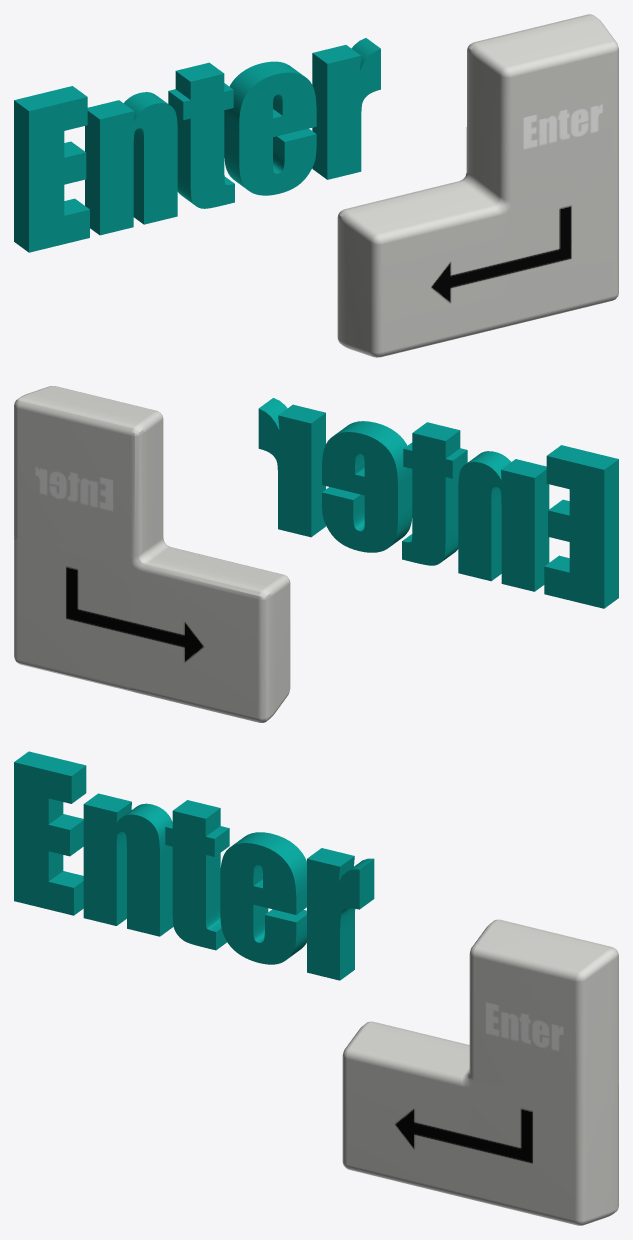
The model's file is HSBC Entorno_10_CAPAS_BOTONES Enter Desarrollo.fbx.
3 renders of one model, top to bottom at view 1: azimuth 30°, elevation 25°; view 2: azimuth 150°, elevation 25°; view 3: azimuth 330°, elevation 25°, orthographic.
Parts seen in each view (by area): view 1: enter, letras_enter; view 2: enter, letras_enter; view 3: enter, letras_enter.
Boxes of the visible parts, x1,y1,x2,y2 form: enter: (337, 14, 618, 357); letras_enter: (14, 38, 380, 252); enter: (14, 386, 290, 722); letras_enter: (258, 398, 618, 608); enter: (342, 919, 618, 1225); letras_enter: (14, 751, 374, 980).
Size of the model in its own units: 111 by 60.02 by 11.27.
